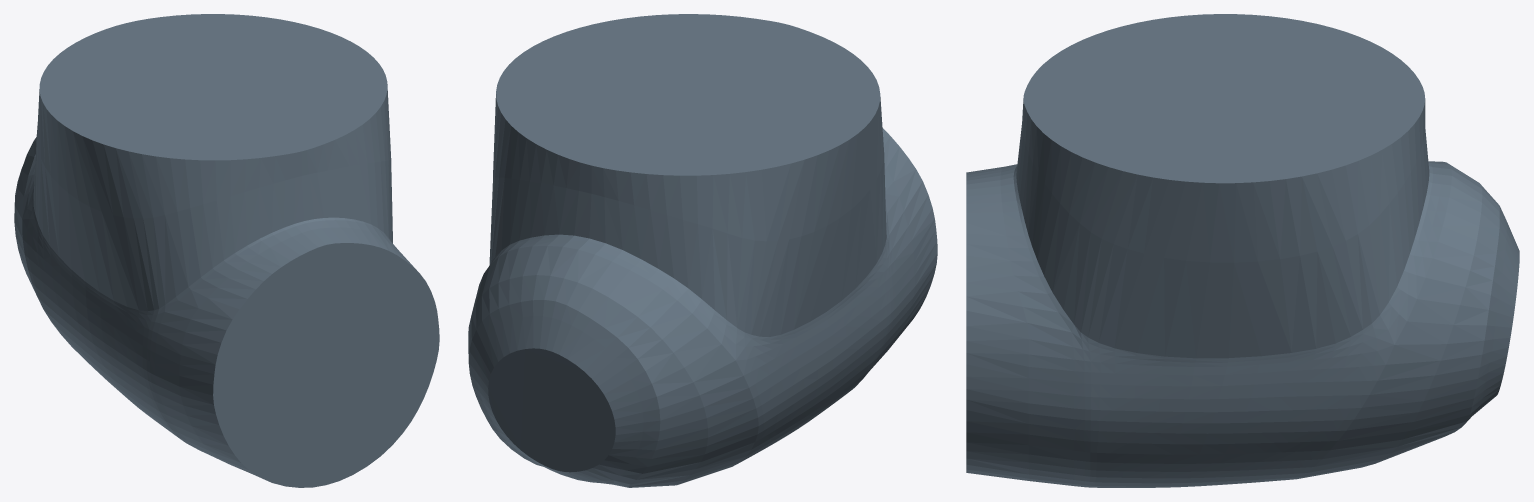
The picture shows the model from 3 angles, left to right: view 1: azimuth 30°, elevation 25°; view 2: azimuth 150°, elevation 25°; view 3: azimuth 270°, elevation 25°; orthographic projection. The views are drawn at different scales.
Parts seen in each view (by area): view 1: MF0609_3_0; view 2: MF0609_3_0; view 3: MF0609_3_0.
Boxes of the visible parts, x1,y1,x2,y2 form: MF0609_3_0: (14, 14, 439, 487); MF0609_3_0: (468, 14, 937, 487); MF0609_3_0: (966, 14, 1519, 487).
Size of the model in its own units: 131 by 180 by 134.
